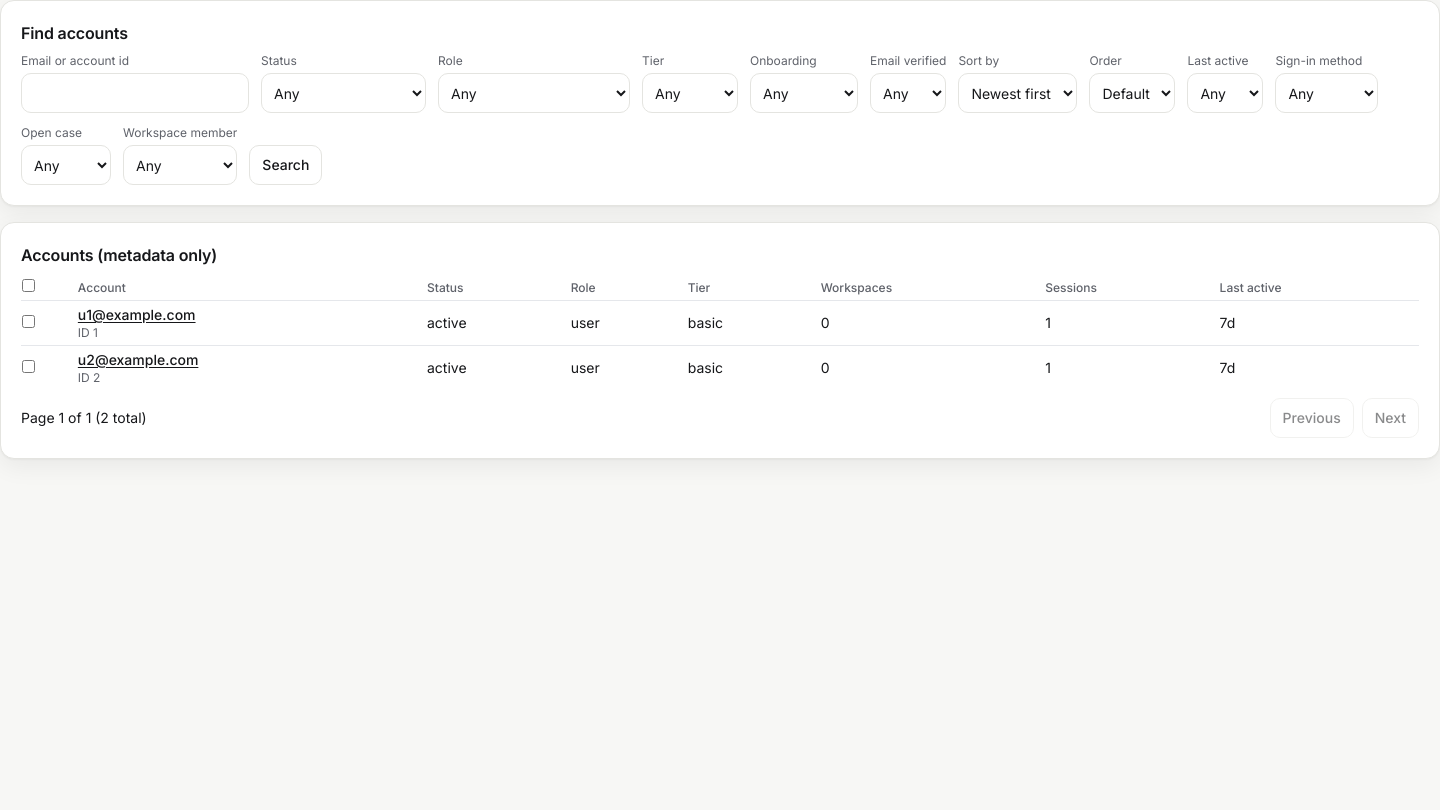
it: selection and permissions › select-all selects the page and Clear selection empties it
Expected: the link "u1@example.com" is shown, [78,306,196,323]
Click the checkbox named "Select all accounts on this page": (28, 286) [22,279,35,292]
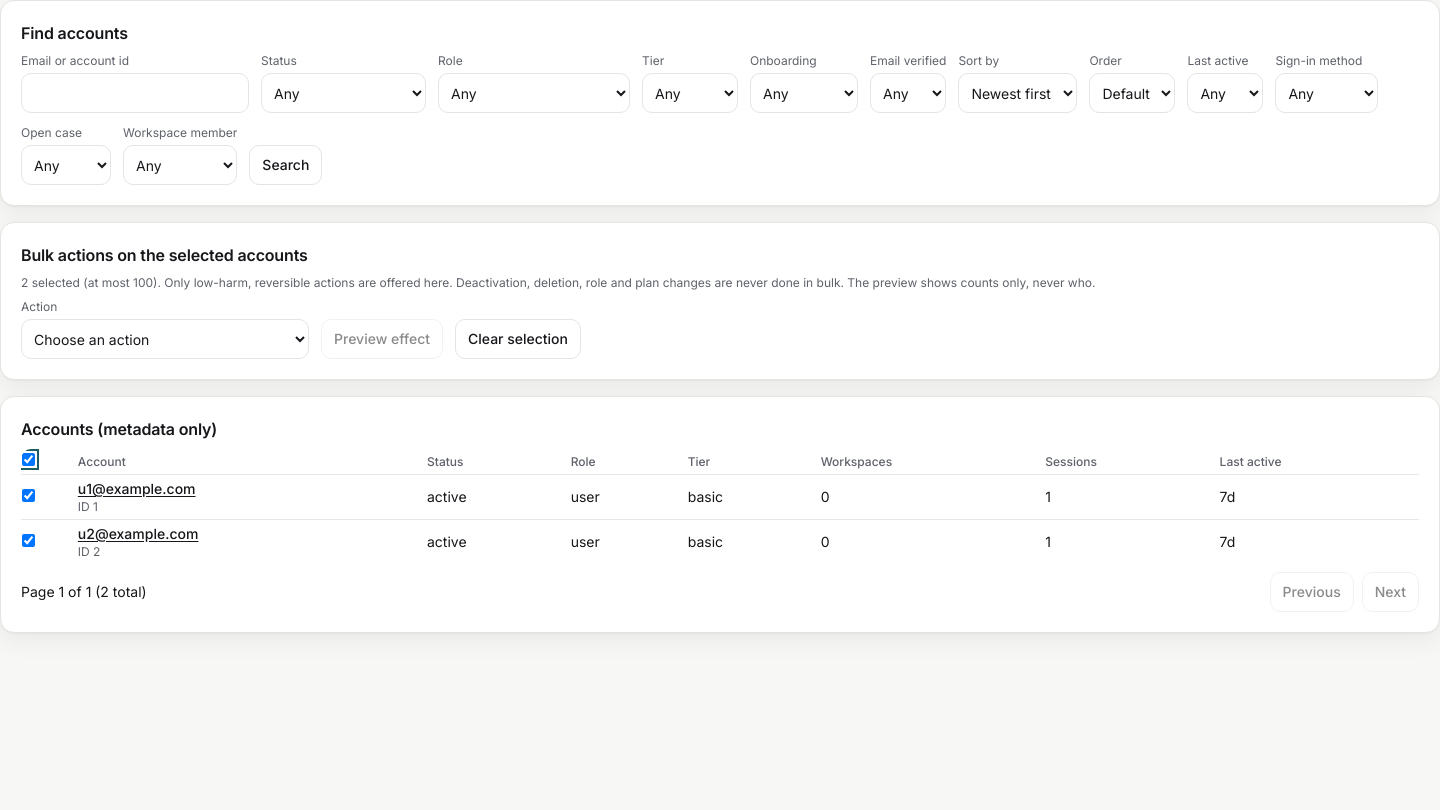
Now the text "2 selected" is shown, box [21,275,1095,290]
Click the button "Clear selection": (518, 339) [455,319,581,359]
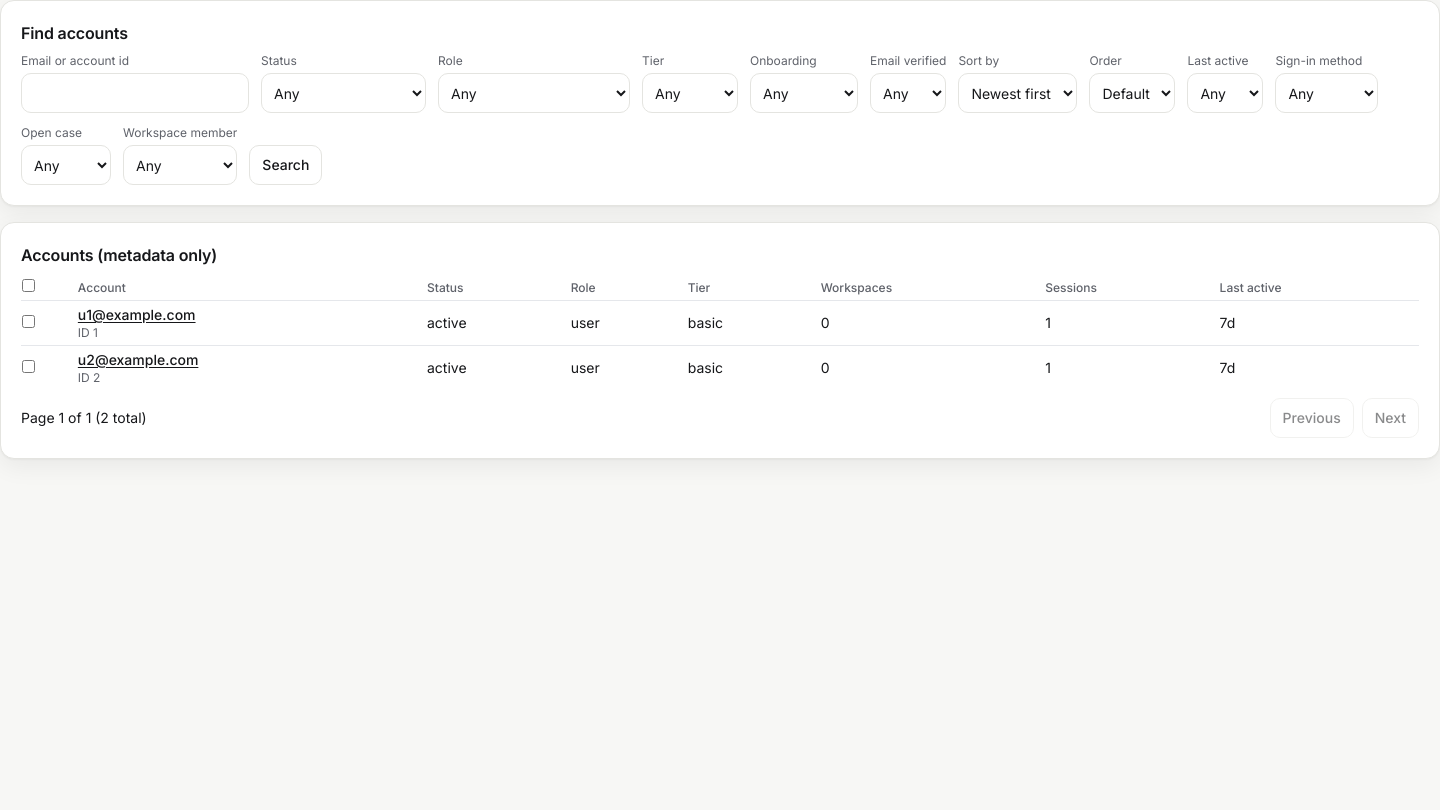
Now the heading "Bulk actions" is gone
